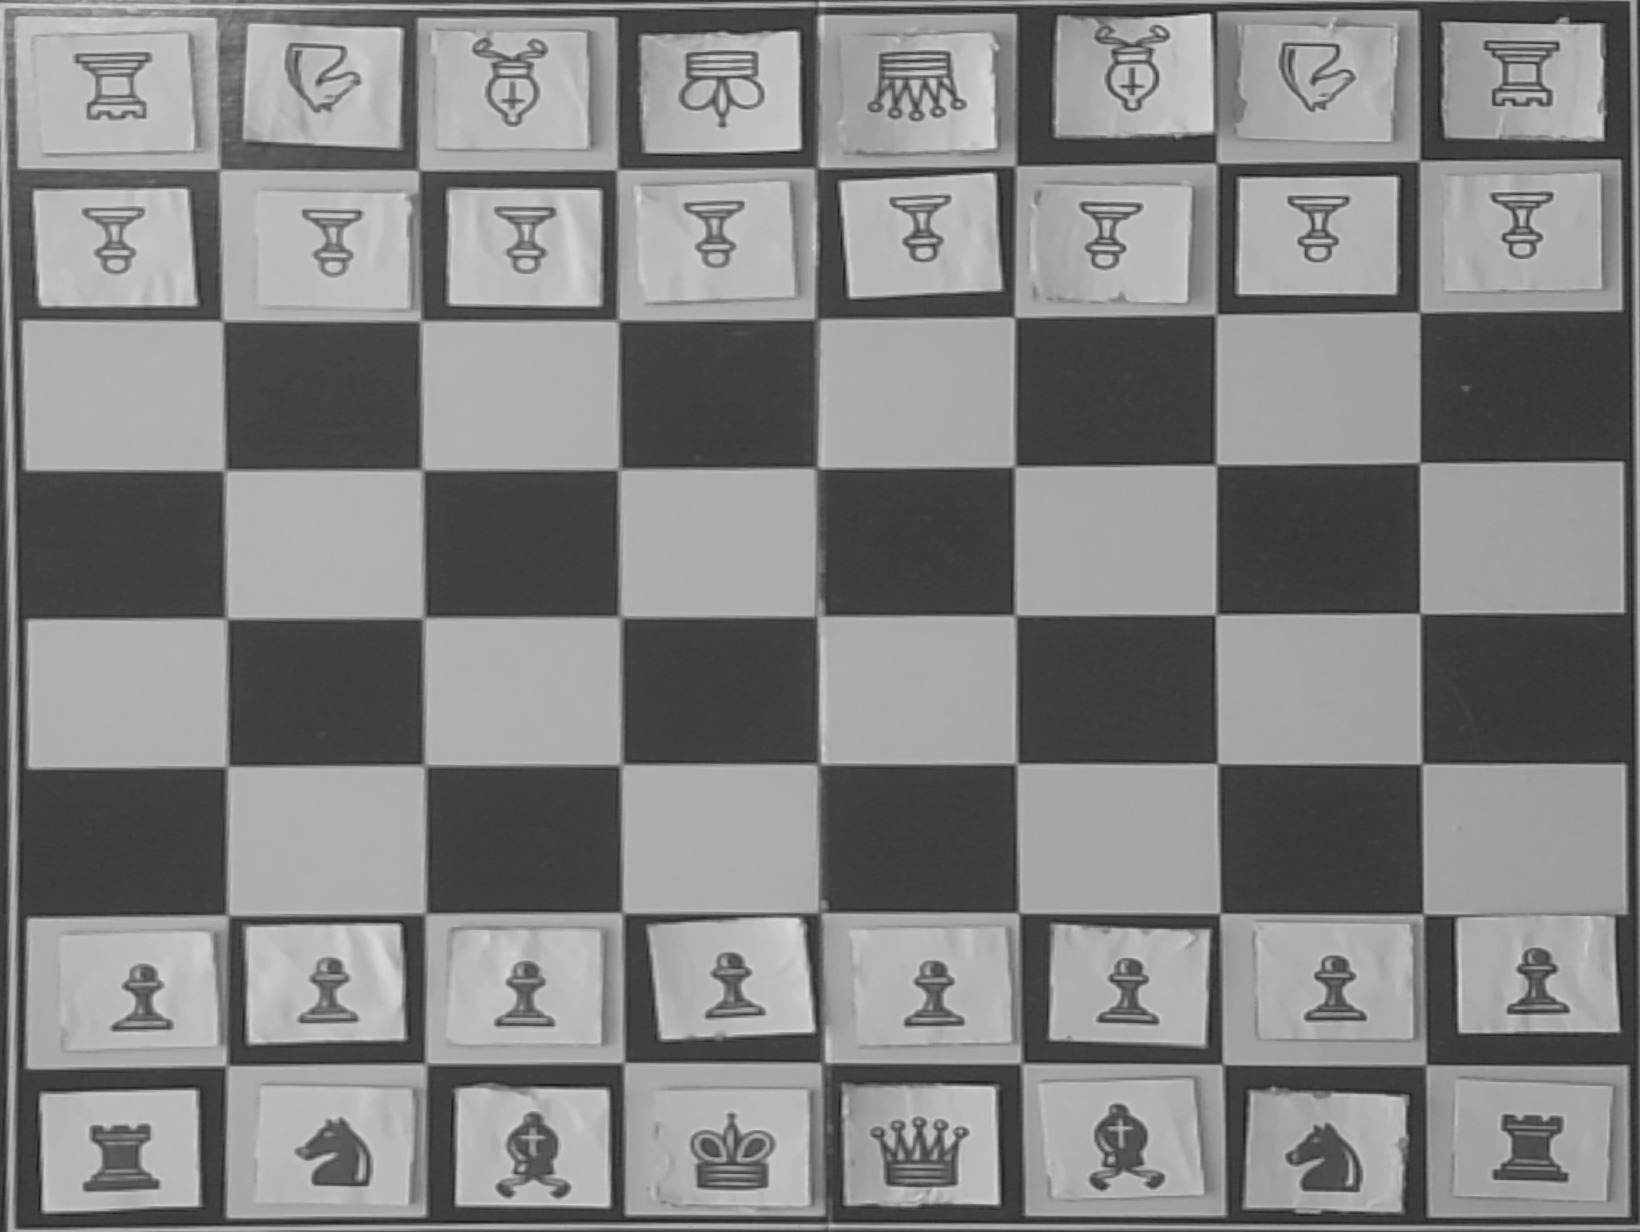b_bishop: (469, 1097, 598, 1207), (1059, 1086, 1188, 1194)
b_king: (672, 1104, 793, 1205)
b_knight: (280, 1097, 393, 1205), (1267, 1099, 1382, 1205)
b_pawn: (1476, 928, 1595, 1026), (667, 932, 784, 1030), (467, 941, 586, 1038)
b_queen: (852, 1095, 990, 1201)
b_rook: (56, 1106, 183, 1205), (1470, 1095, 1596, 1193)
w_bishop: (450, 32, 570, 142), (1070, 18, 1193, 122)
w_king: (650, 35, 779, 140)
w_knight: (261, 30, 384, 137), (1256, 22, 1379, 129)
w_pawn: (1055, 182, 1177, 289), (463, 189, 584, 295), (854, 181, 975, 287)
w_queen: (852, 41, 973, 142)
w_rook: (1455, 28, 1586, 129), (47, 43, 179, 142)
